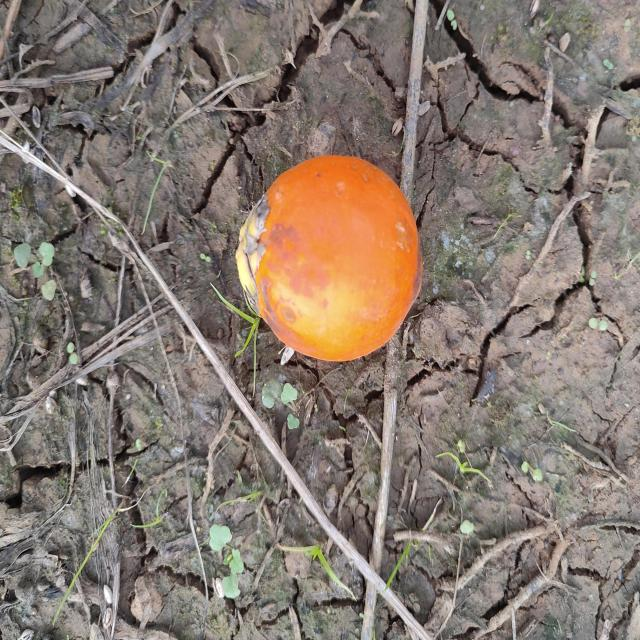good: (241, 156, 422, 364)
